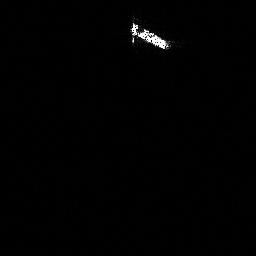ship: (127, 18, 173, 52)
